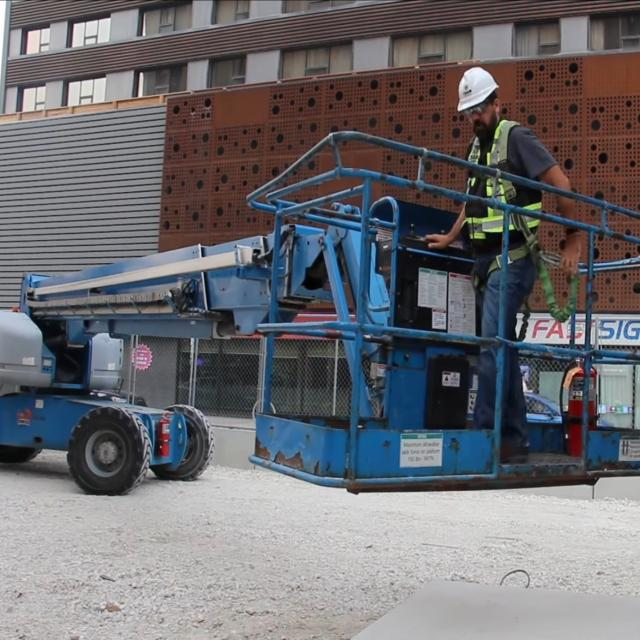2m above platform: (0, 128, 640, 504)
Belt: (460, 126, 547, 268)
worker: (434, 55, 582, 458)
